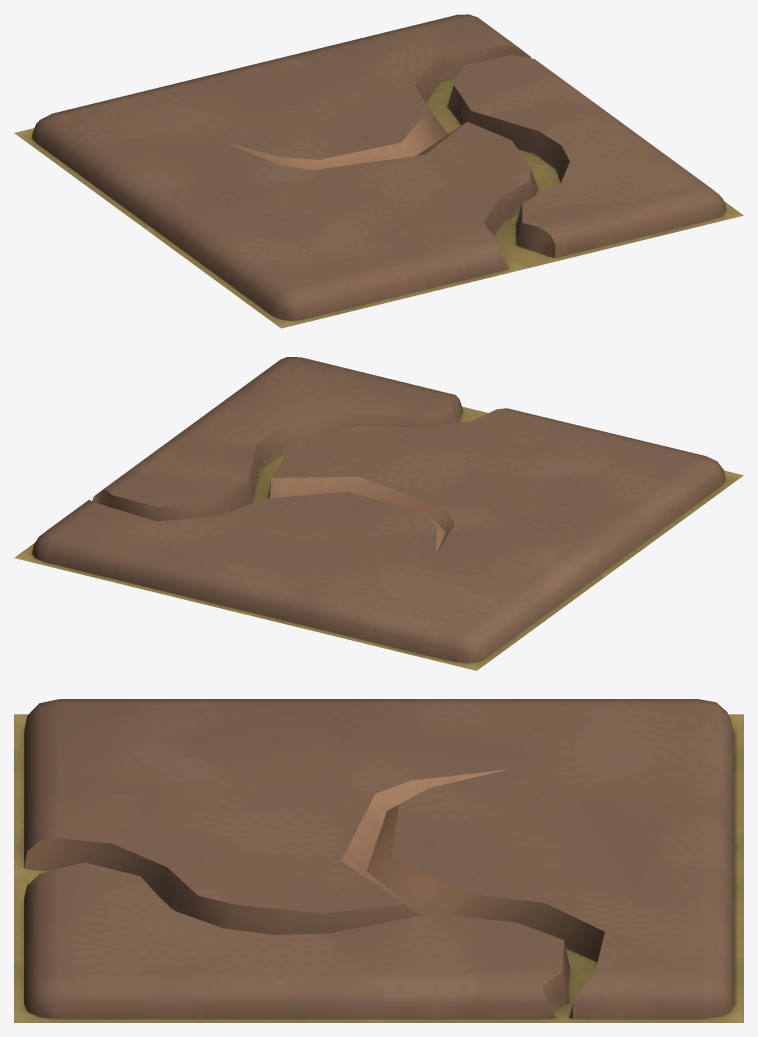
File: P-Sol_Dalle3.FBX
3 renders of one model, top to bottom at view 1: azimuth 30°, elevation 25°; view 2: azimuth 150°, elevation 25°; view 3: azimuth 270°, elevation 25°, orthographic. The views are drawn at different scales.
Parts seen in each view (by area): view 1: Sol_Dalle3; view 2: Sol_Dalle3; view 3: Sol_Dalle3.
Part boxes in pixels (x1,y1,x2,y2): Sol_Dalle3: (14,14,743,328); Sol_Dalle3: (14,357,743,670); Sol_Dalle3: (14,699,743,1022).
Bounding box in the file's own units: 2 × 0.1528 × 2.
